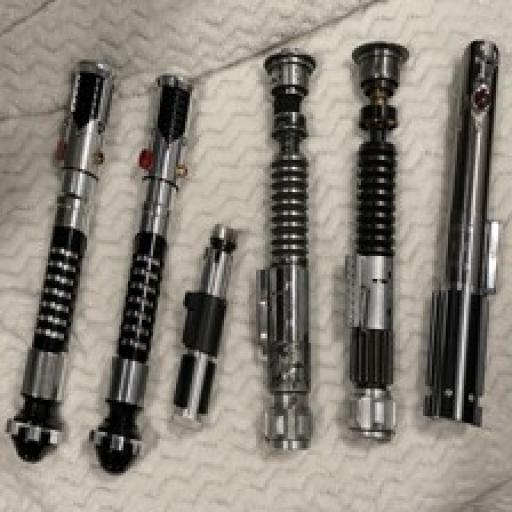lightsaber: (0, 56, 127, 462), (88, 68, 199, 477), (338, 38, 420, 449), (422, 36, 502, 426), (252, 50, 320, 449), (168, 224, 240, 420)
